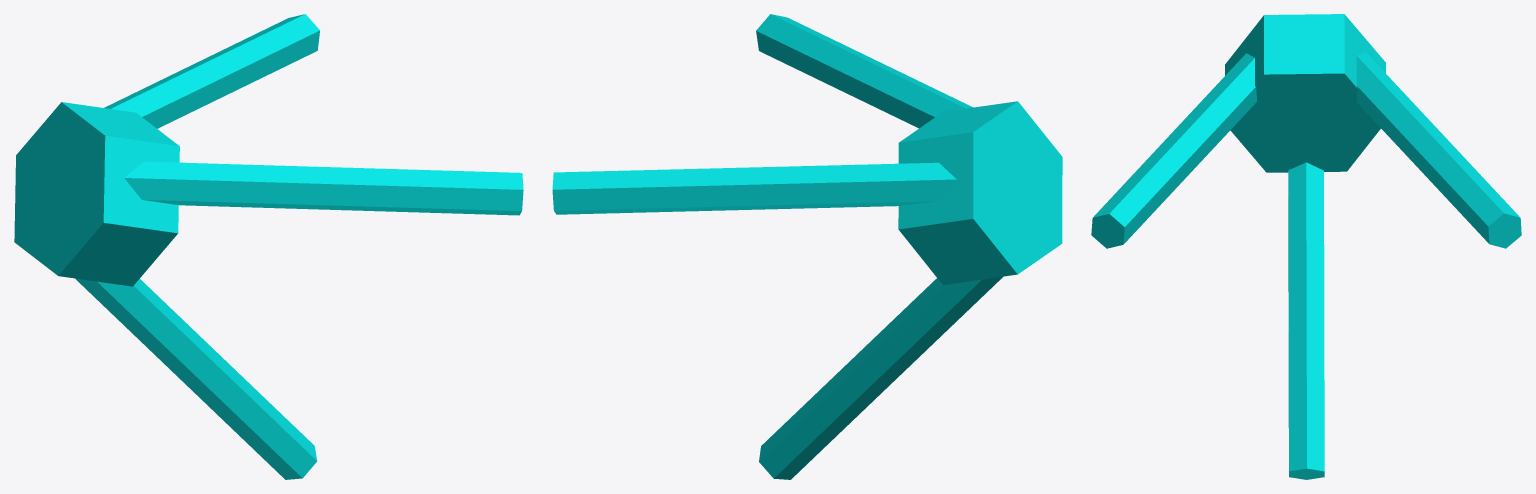
The model's file is SM_Prop_Turnstile_02_Rotor_01_Collision.fbx.
The picture shows the model from 3 angles, left to right: view 1: azimuth 30°, elevation 25°; view 2: azimuth 150°, elevation 25°; view 3: azimuth 270°, elevation 25°; orthographic projection. The views are drawn at different scales.
Visible parts, largest first — view 1: SM_Prop_Turnstile_02_Rotor_01_Collision; view 2: SM_Prop_Turnstile_02_Rotor_01_Collision; view 3: SM_Prop_Turnstile_02_Rotor_01_Collision.
Part boxes in pixels (<box>): SM_Prop_Turnstile_02_Rotor_01_Collision: <box>14,14,523,479</box>; SM_Prop_Turnstile_02_Rotor_01_Collision: <box>552,14,1062,479</box>; SM_Prop_Turnstile_02_Rotor_01_Collision: <box>1091,14,1521,479</box>.
Size of the model in its own units: 75.94 by 77.95 by 80.94.
